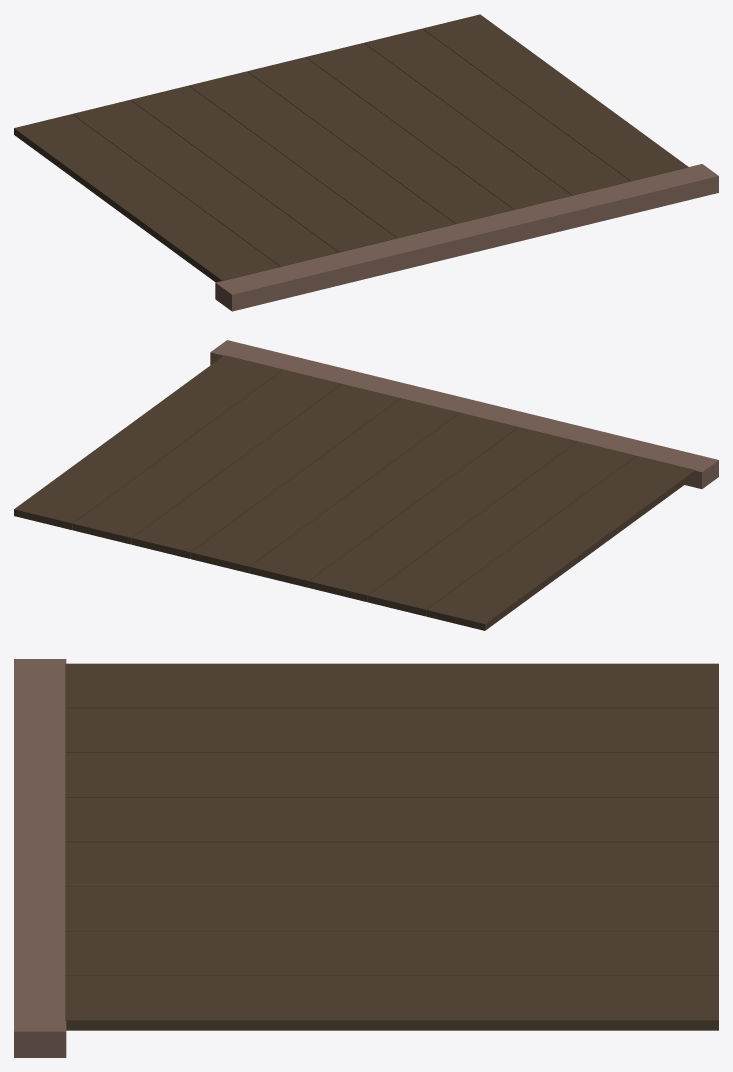
The model's file is set_1_roof.glb.
3 views of the same model, one above another, from view 1: azimuth 30°, elevation 25°; view 2: azimuth 150°, elevation 25°; view 3: azimuth 270°, elevation 25° (orthographic). The views are drawn at different scales.
Visible parts, largest first — view 1: RoofSecond; view 2: RoofSecond; view 3: RoofSecond.
Boxes of the visible parts, <box> form: RoofSecond: <box>14,14,718,311</box>; RoofSecond: <box>14,340,718,630</box>; RoofSecond: <box>14,659,718,1057</box>.
Size of the model in its own units: 5.08 by 0.1716 by 4.06.
